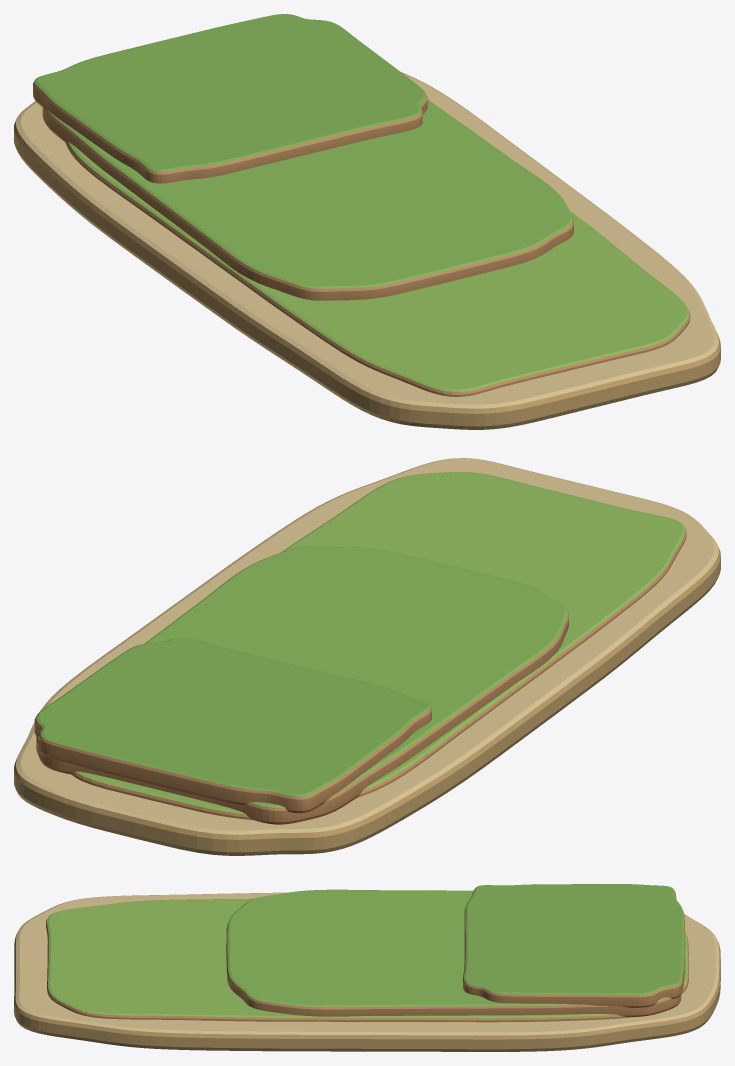
The model's file is terrain.glb.
The picture shows the model from 3 angles, top to bottom: view 1: azimuth 30°, elevation 25°; view 2: azimuth 150°, elevation 25°; view 3: azimuth 270°, elevation 25°; orthographic projection. The views are drawn at different scales.
Parts seen in each view (by area): view 1: tunes_terrain; view 2: tunes_terrain; view 3: tunes_terrain.
Boxes of the visible parts, x1,y1,x2,y2 form: tunes_terrain: (14, 14, 720, 429); tunes_terrain: (14, 458, 720, 855); tunes_terrain: (14, 884, 720, 1051).
Bounding box in the file's own units: 38.34 × 5.35 × 79.24.
